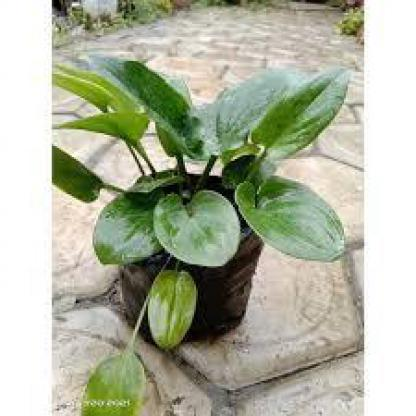Kenanga: (94, 95, 294, 337)
